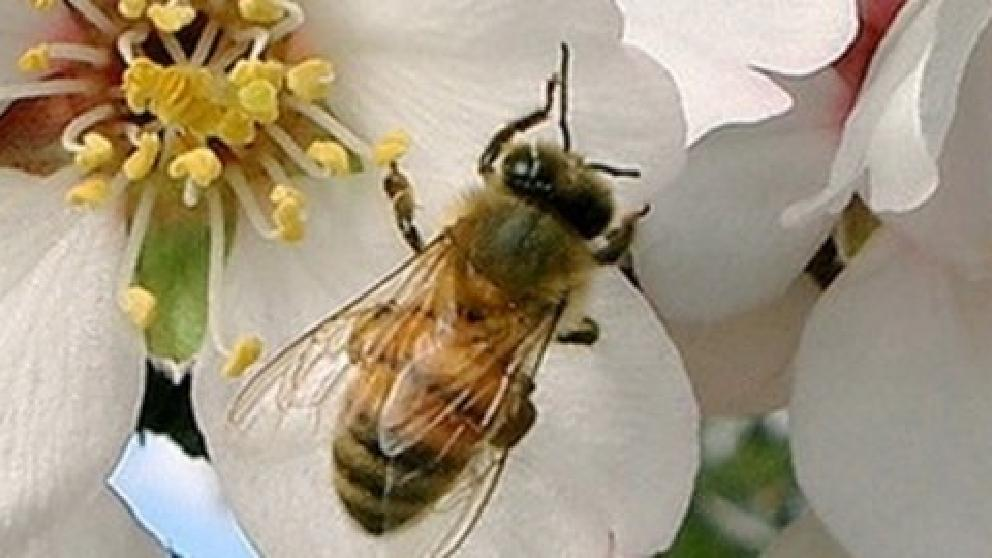bee: (217, 33, 692, 558)
